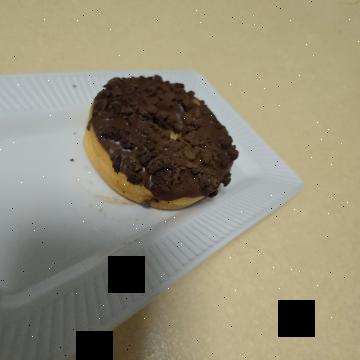doughnut: (58, 107, 218, 288)
